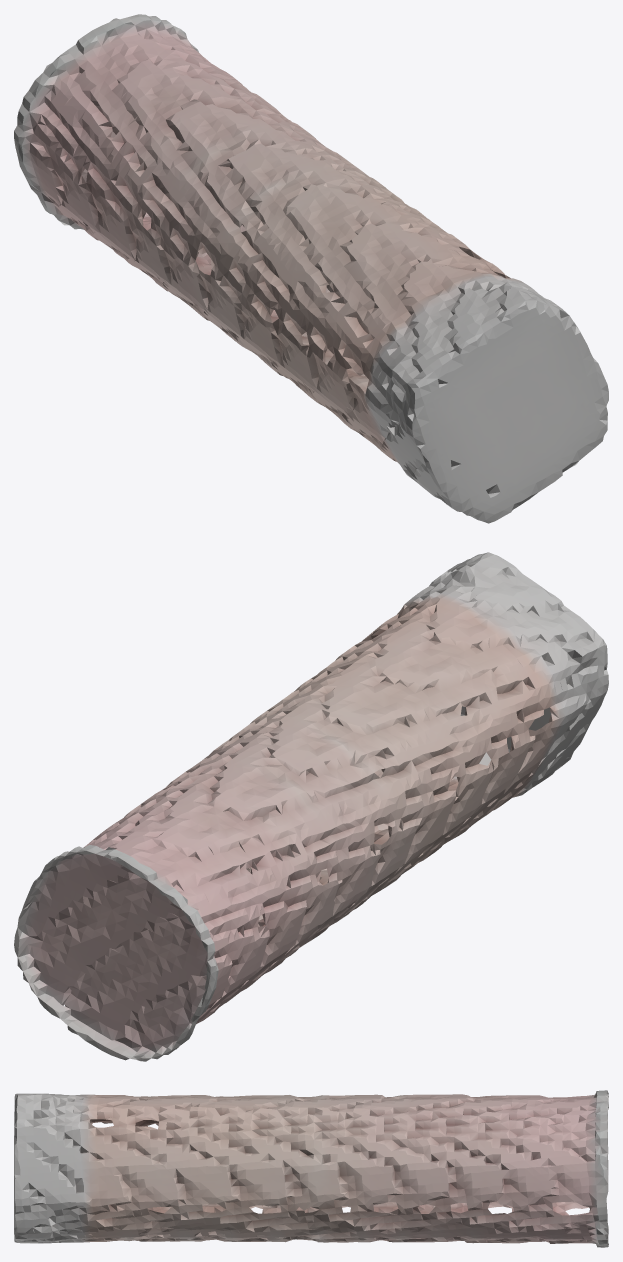
File: entity-signal-light-2.glb
3 views of the same model, one above another, from view 1: azimuth 30°, elevation 25°; view 2: azimuth 150°, elevation 25°; view 3: azimuth 270°, elevation 25° (orthographic). The views are drawn at different scales.
Visible parts, largest first — view 1: geometry_0; view 2: geometry_0; view 3: geometry_0.
Part boxes in pixels (x1,y1,x2,y2): geometry_0: (14,14,608,523); geometry_0: (14,552,608,1061); geometry_0: (14,1090,608,1247).
Size of the model in its own units: 0.0859 by 0.0895 by 0.3011.
